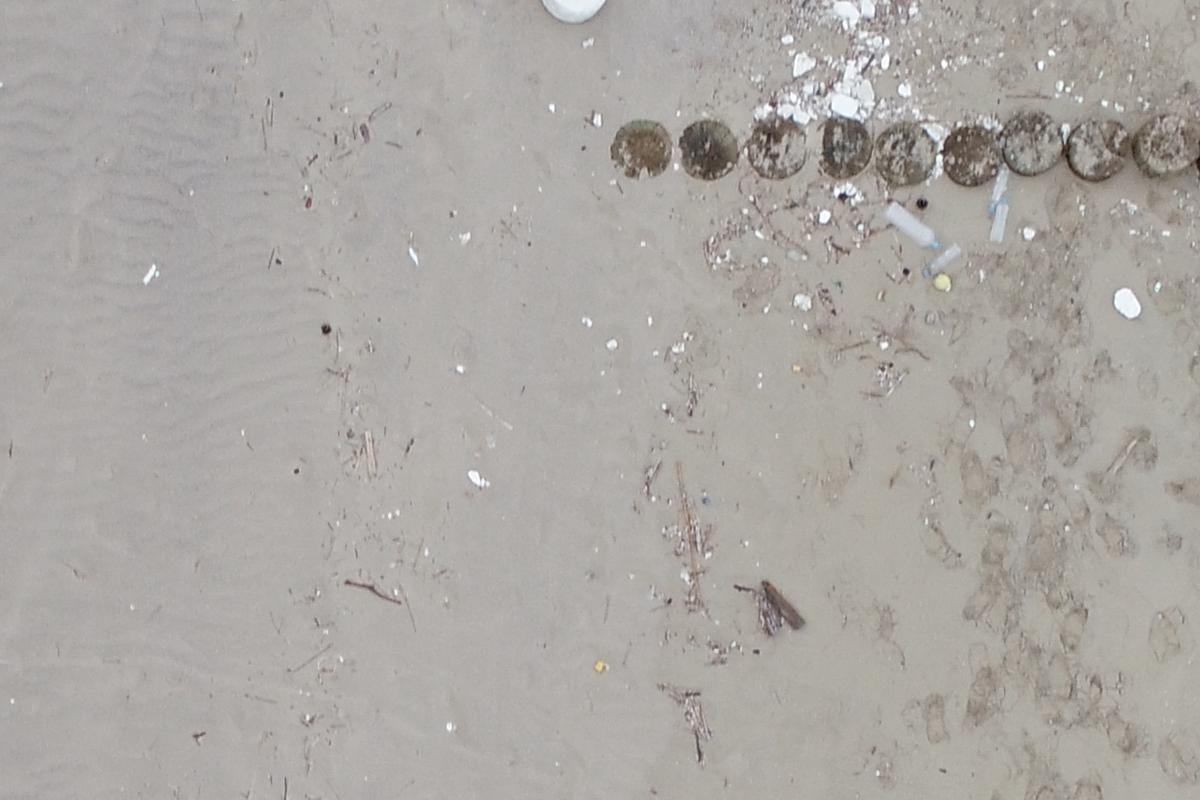(11)PET_Bottle: (875, 201, 941, 252)
(21)Styrofoam_Piece: (535, 0, 605, 23), (1114, 281, 1140, 320)
\: (987, 166, 1011, 216), (988, 193, 1007, 246)
